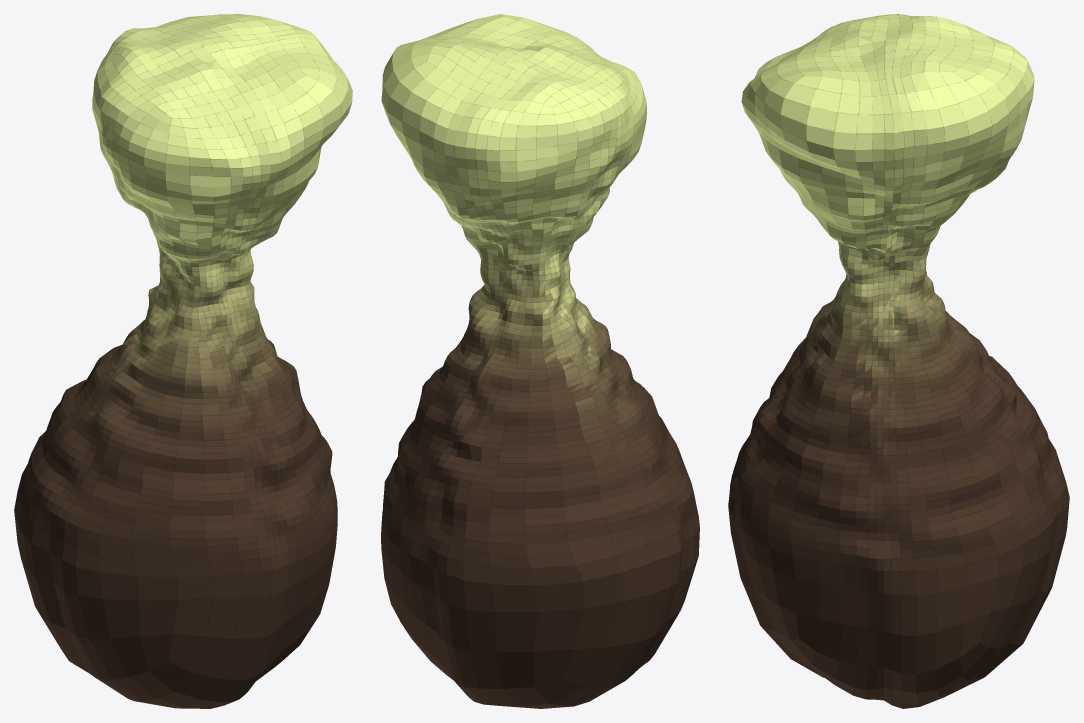
The model's file is beach.gltf.
3 views of the same model, side by side, from view 1: azimuth 30°, elevation 25°; view 2: azimuth 150°, elevation 25°; view 3: azimuth 270°, elevation 25° (orthographic). The views are drawn at different scales.
Parts seen in each view (by area): view 1: Cube; view 2: Cube; view 3: Cube.
Boxes of the visible parts, x1,y1,x2,y2 form: Cube: [14, 14, 352, 708]; Cube: [381, 14, 699, 708]; Cube: [728, 14, 1069, 708].
Size of the model in its own units: 11.3 by 23.89 by 11.07.
1 material, 1 textured.
